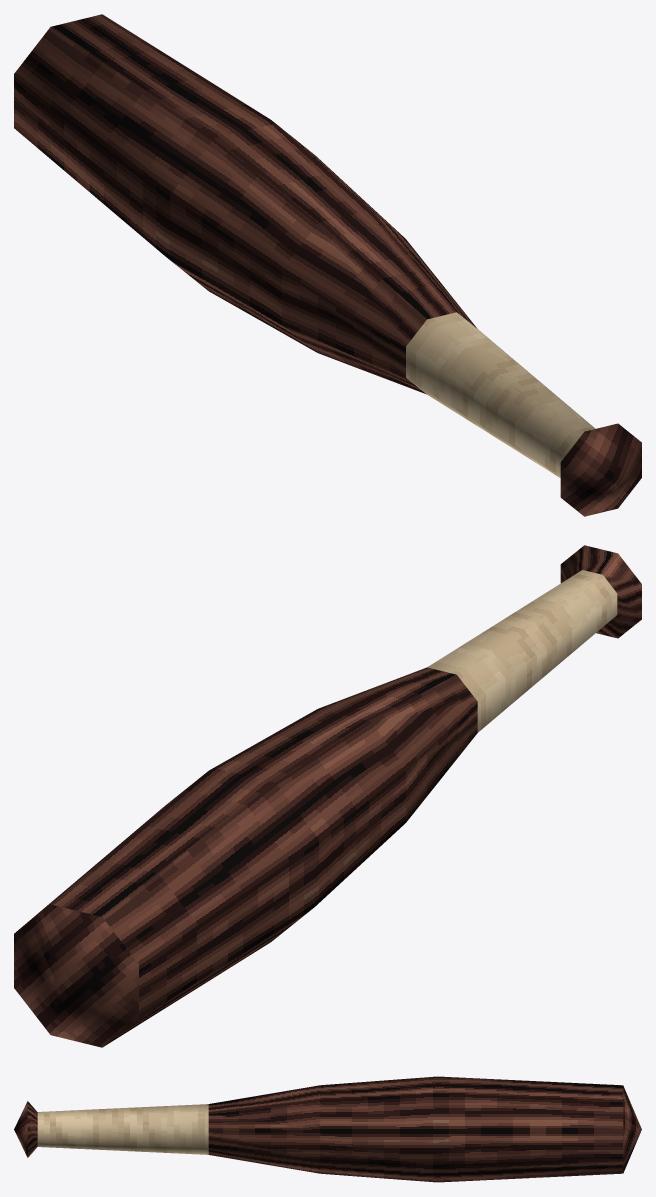
The model's file is Beater Model.fbx.
3 views of the same model, one above another, from view 1: azimuth 30°, elevation 25°; view 2: azimuth 150°, elevation 25°; view 3: azimuth 270°, elevation 25° (orthographic). The views are drawn at different scales.
Parts seen in each view (by area): view 1: Mesh_0095; view 2: Mesh_0095; view 3: Mesh_0095.
Part boxes in pixels (x1,y1,x2,y2): Mesh_0095: [14, 14, 641, 516]; Mesh_0095: [14, 545, 641, 1047]; Mesh_0095: [14, 1076, 641, 1182].
Bounding box in the file's own units: 8.67 × 8.67 × 55.54.
1 material, 1 textured.
